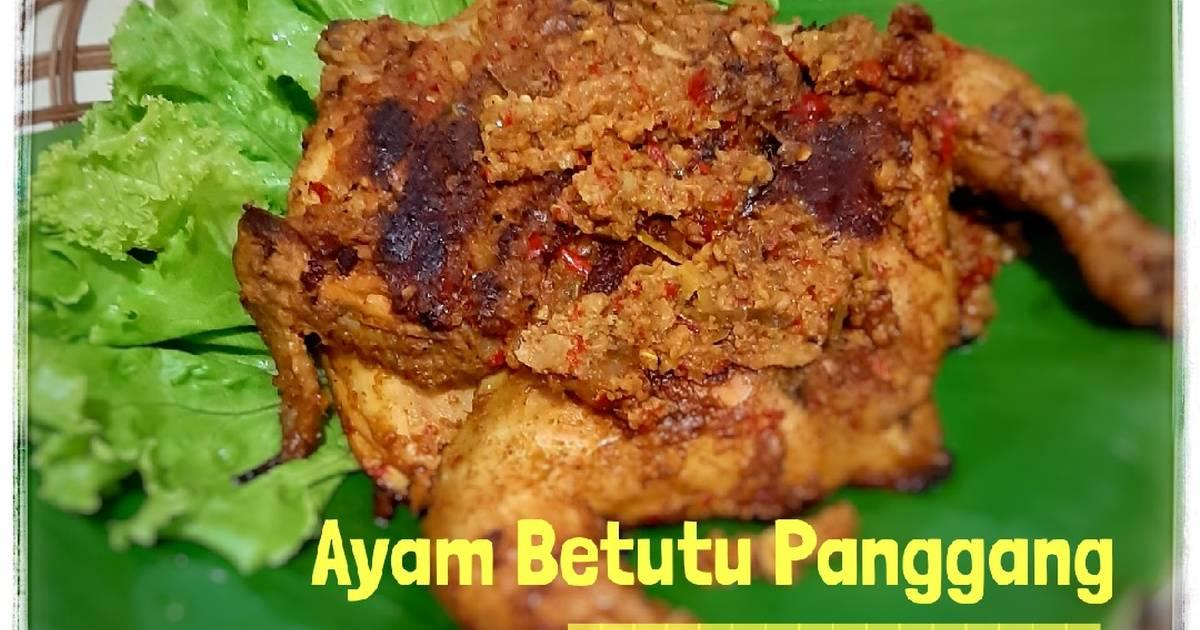ayam_betutu: (235, 2, 1177, 517)
